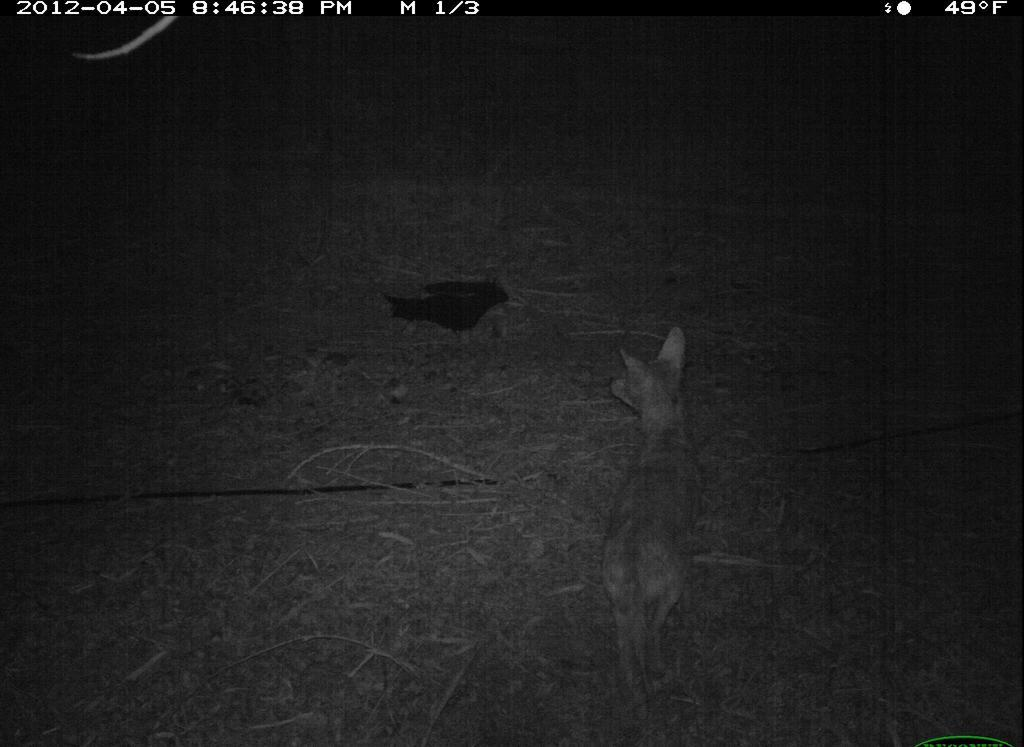coyote: (597, 322, 703, 715)
